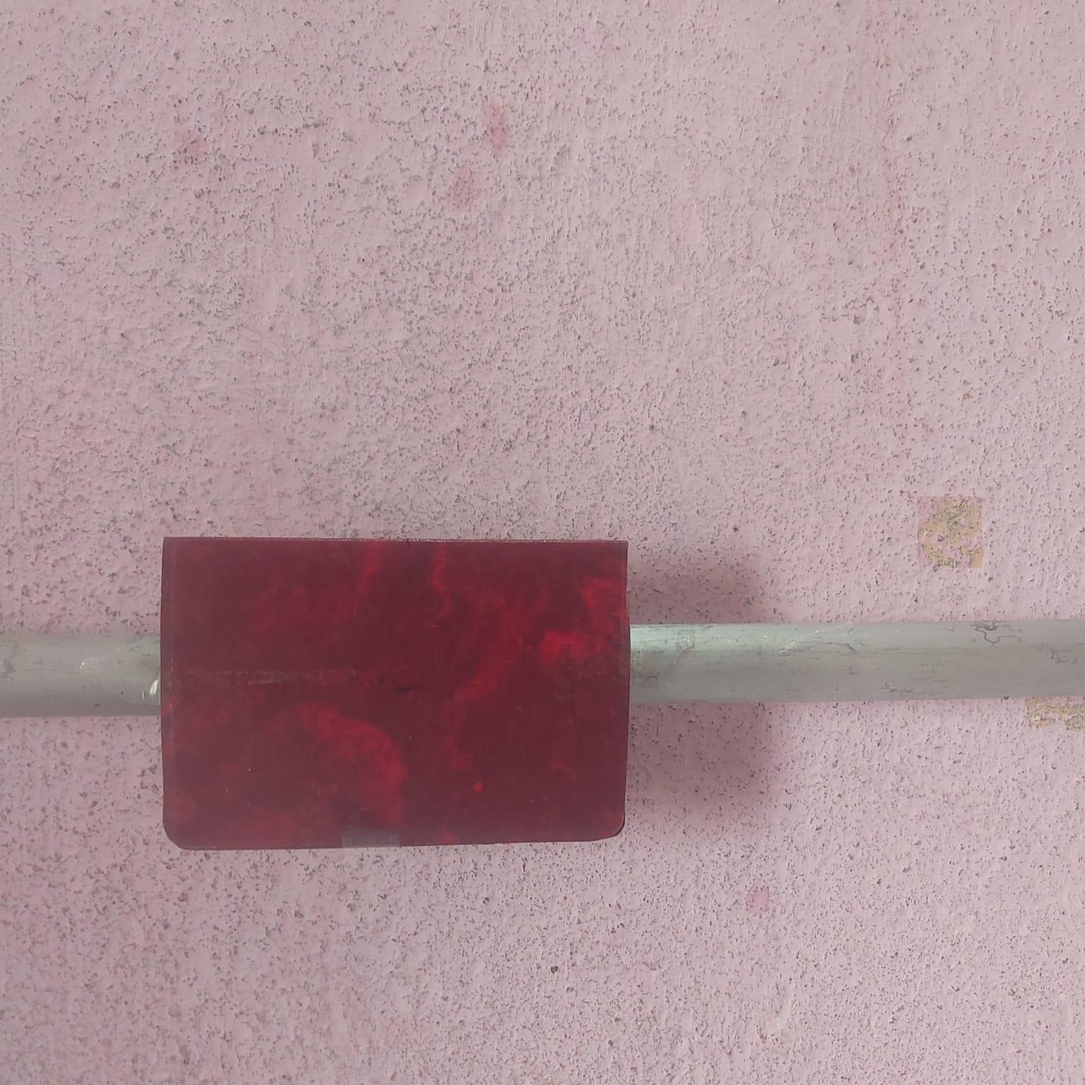wallet: (154, 535, 632, 848)
